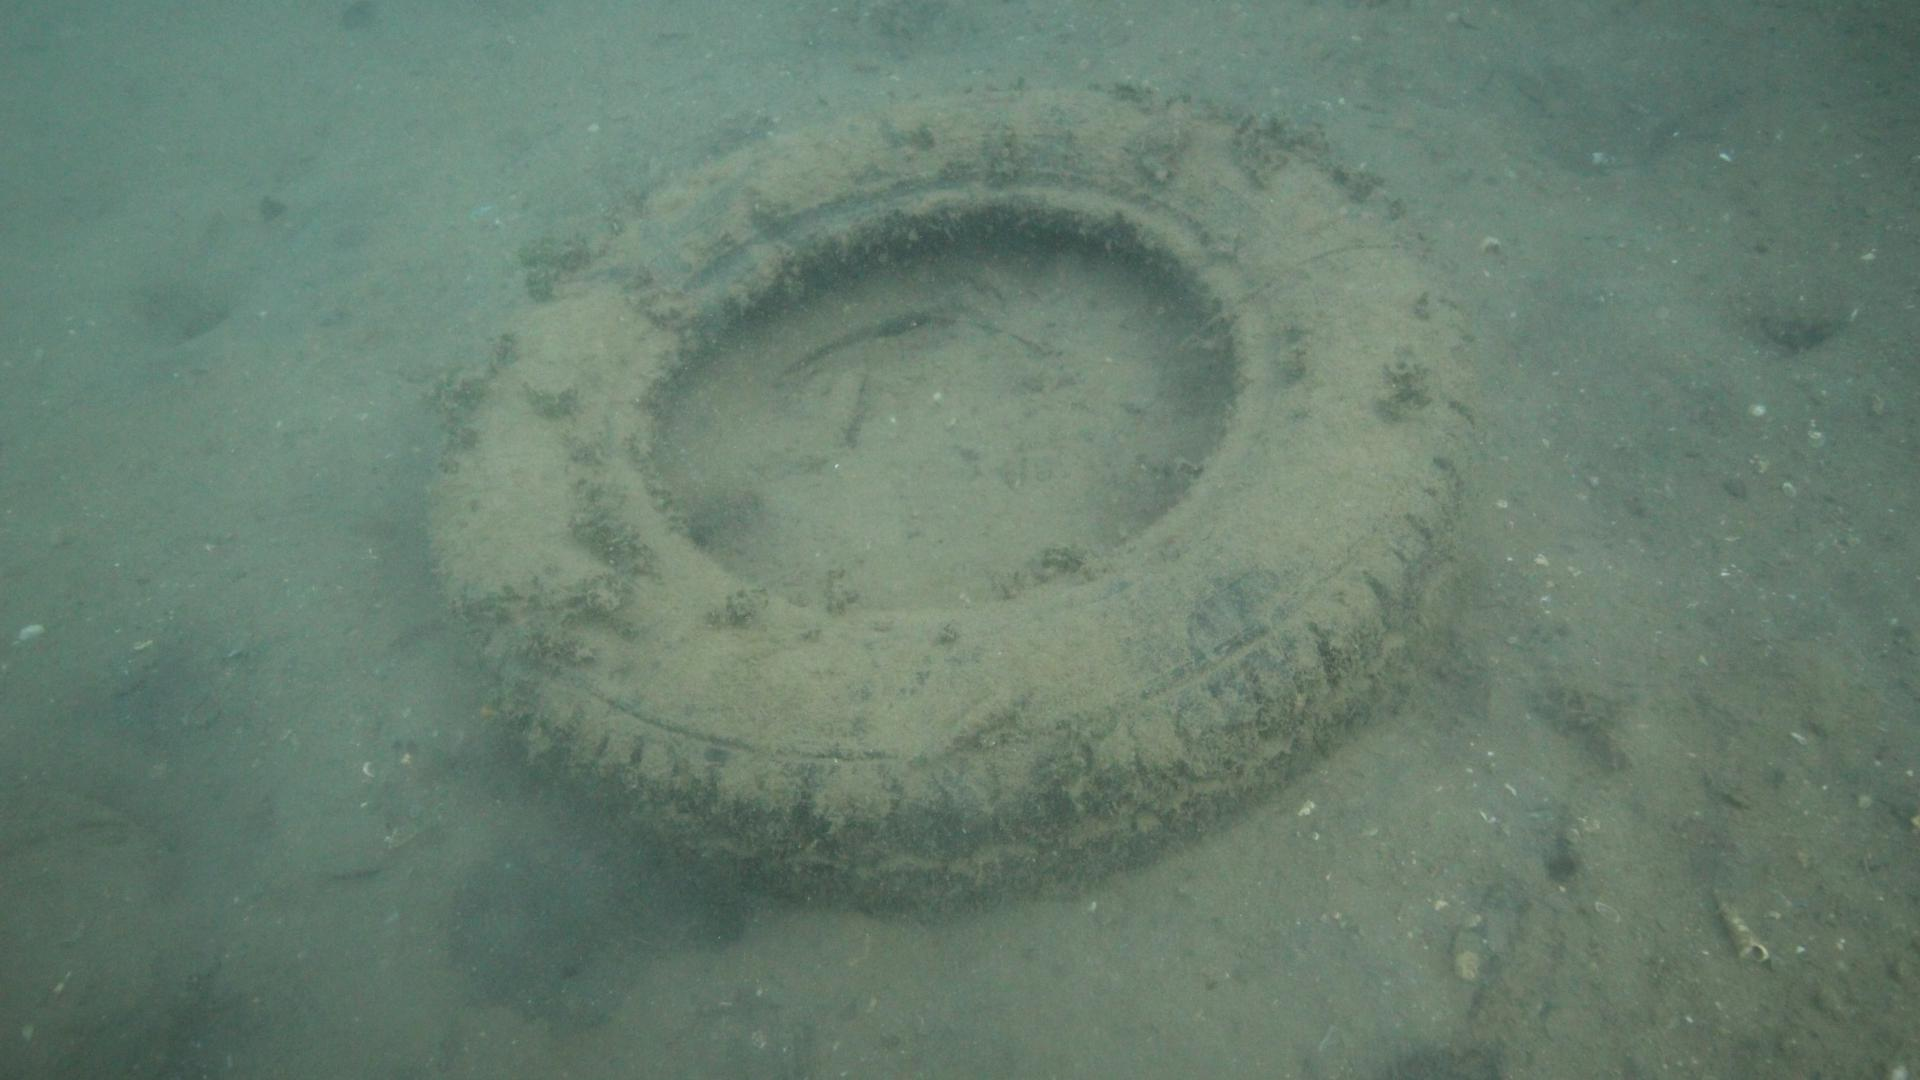tire: (422, 84, 1472, 923)
